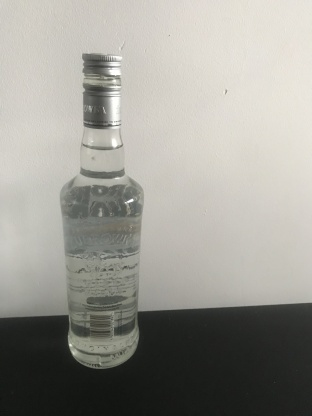nakretka: (80, 49, 124, 129)
